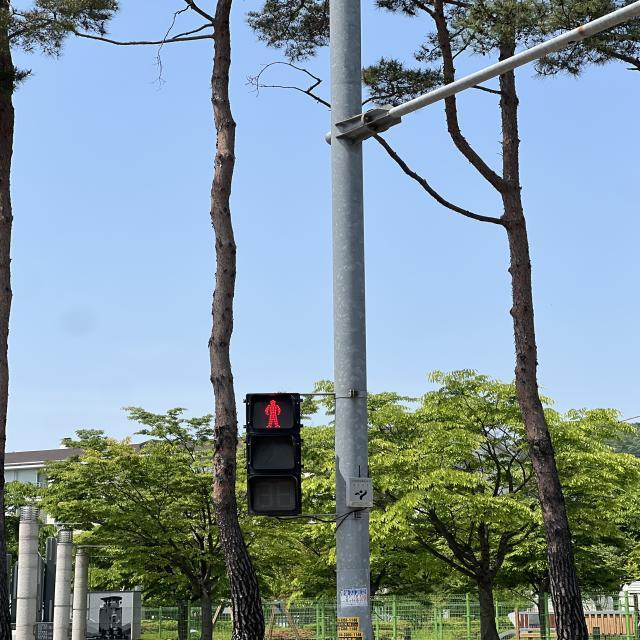red-crossing: (243, 400, 313, 514)
